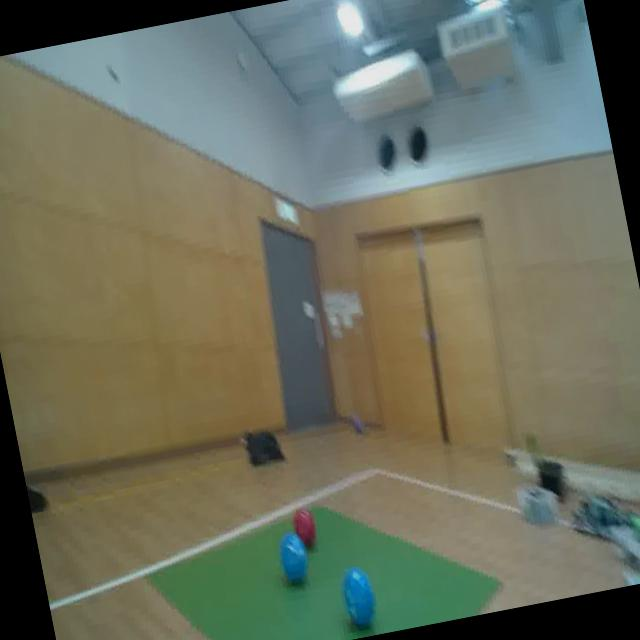blue_ball: (335, 560, 383, 632), (272, 526, 314, 588)
purple_ball: (351, 413, 366, 435)
red_ball: (288, 502, 322, 548)
